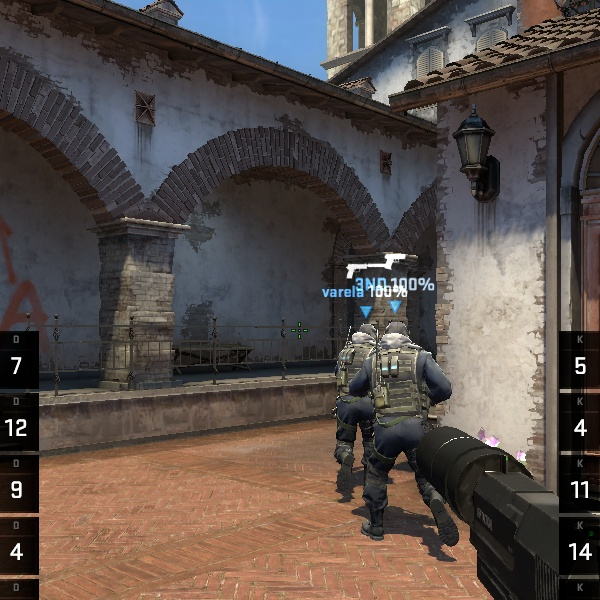ct_body: (312, 317, 458, 548)
